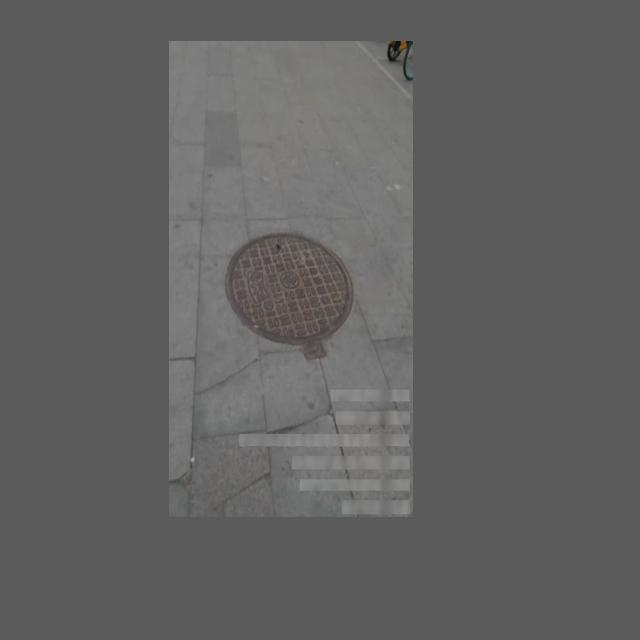good: (225, 230, 354, 362)
